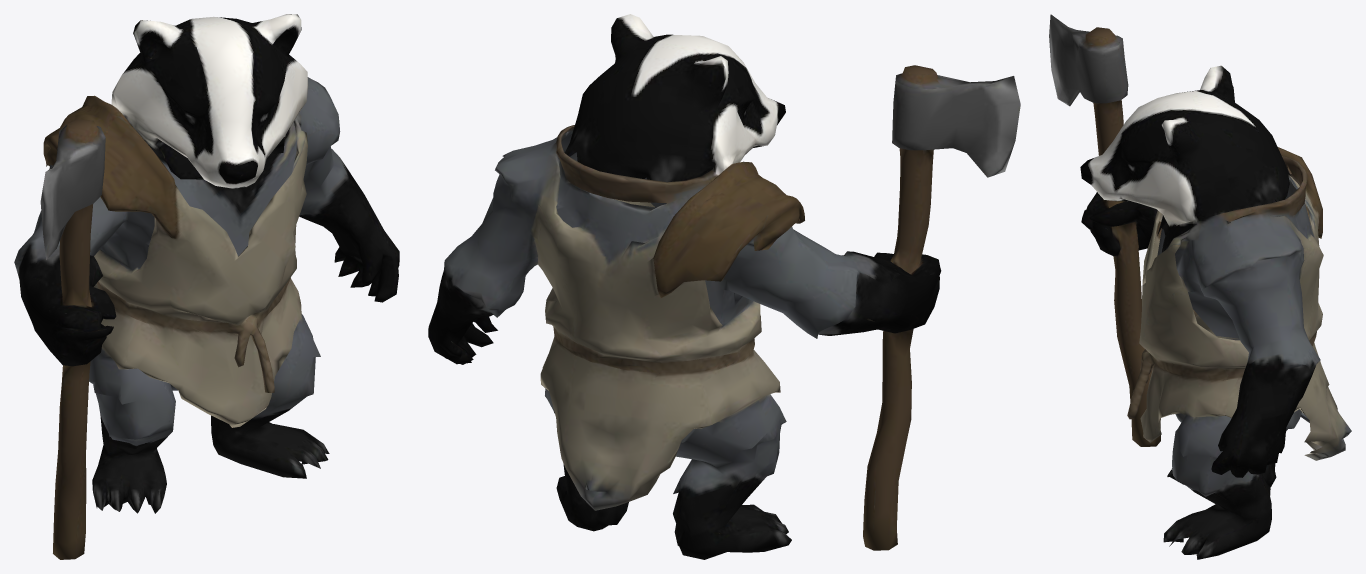
The model's file is wildkin_ready.glb.
3 renders of one model, left to right at view 1: azimuth 30°, elevation 25°; view 2: azimuth 150°, elevation 25°; view 3: azimuth 270°, elevation 25°, orthographic. The views are drawn at different scales.
Parts seen in each view (by area): view 1: world; view 2: world; view 3: world.
Part boxes in pixels (x1,y1,x2,y2): world: (14, 14, 399, 559); world: (428, 14, 1020, 559); world: (1049, 14, 1351, 559).
Bounding box in the file's own units: 0.9942 × 0.9736 × 0.6253.
1 material, 1 textured.
